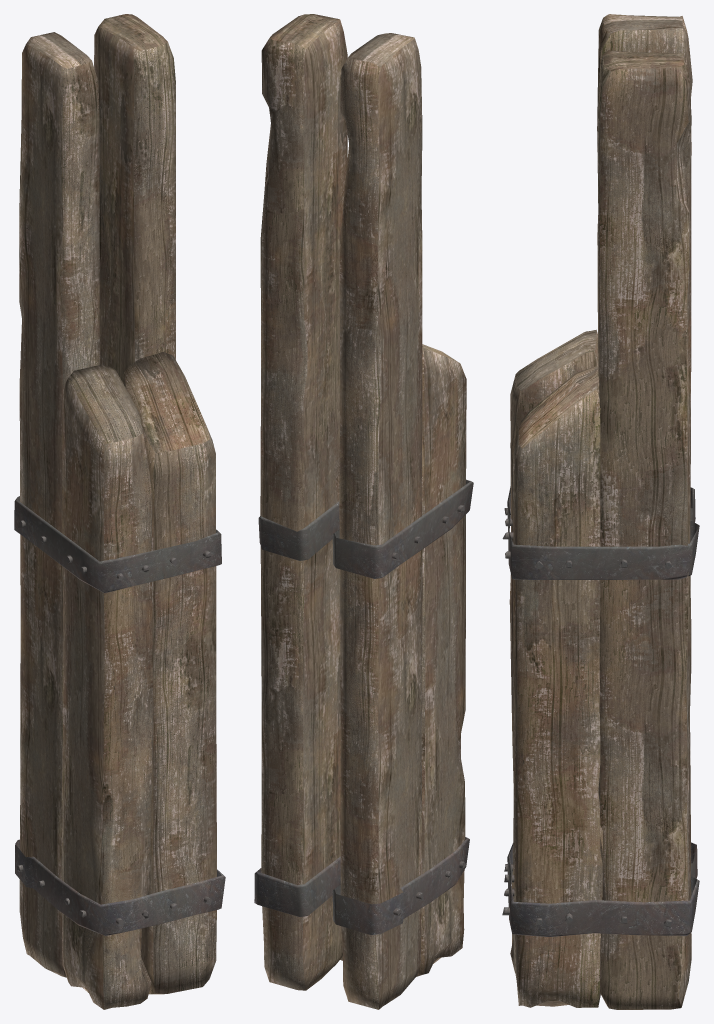
File: SM_Portcullis_Frame.fbx
The picture shows the model from 3 angles, left to right: view 1: azimuth 30°, elevation 25°; view 2: azimuth 150°, elevation 25°; view 3: azimuth 270°, elevation 25°; orthographic projection. The views are drawn at different scales.
Visible parts, largest first — view 1: SM_Portcullis_Frame_LOD0; view 2: SM_Portcullis_Frame_LOD0; view 3: SM_Portcullis_Frame_LOD0.
Boxes of the visible parts, left/top/right/bottom form: SM_Portcullis_Frame_LOD0: left=14, top=14, right=225, bottom=1009; SM_Portcullis_Frame_LOD0: left=254, top=14, right=473, bottom=1009; SM_Portcullis_Frame_LOD0: left=502, top=14, right=699, bottom=1009.
Size of the model in its own units: 96.81 by 114 by 603.
